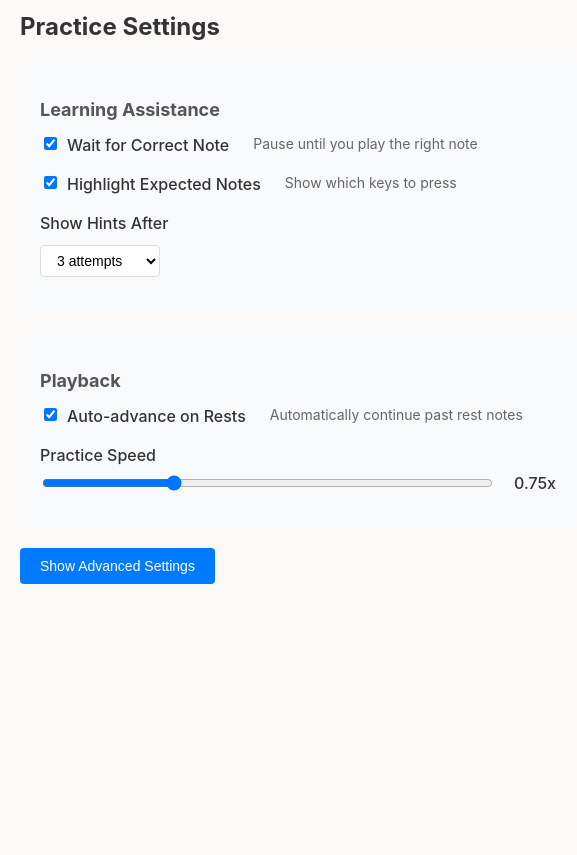
it: Practice Settings UI › Data Export › should show export format options
Step 1. Click the button "Show Advanced Settings" → x=117, y=566, box [20,548,215,584]
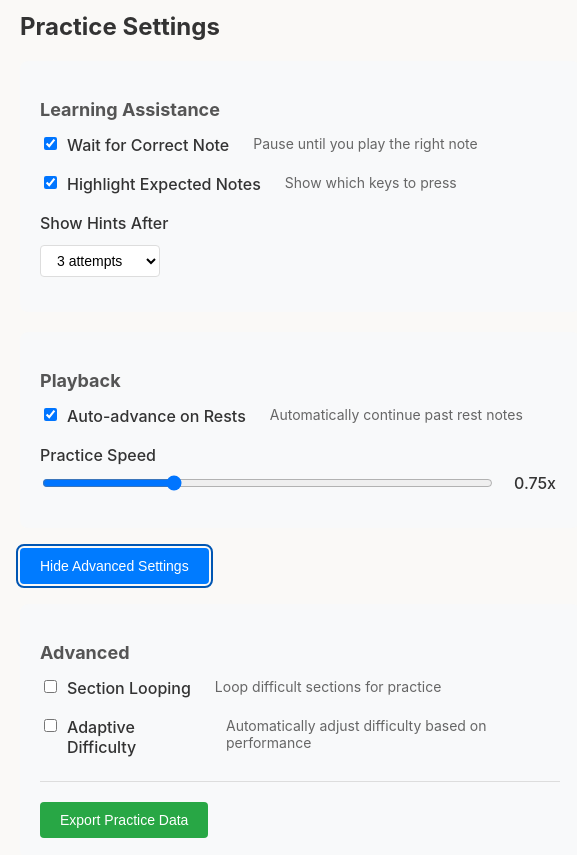
Step 2. Click the button "Export Practice Data" → x=124, y=820, box [40,802,208,838]
(page scrolled)
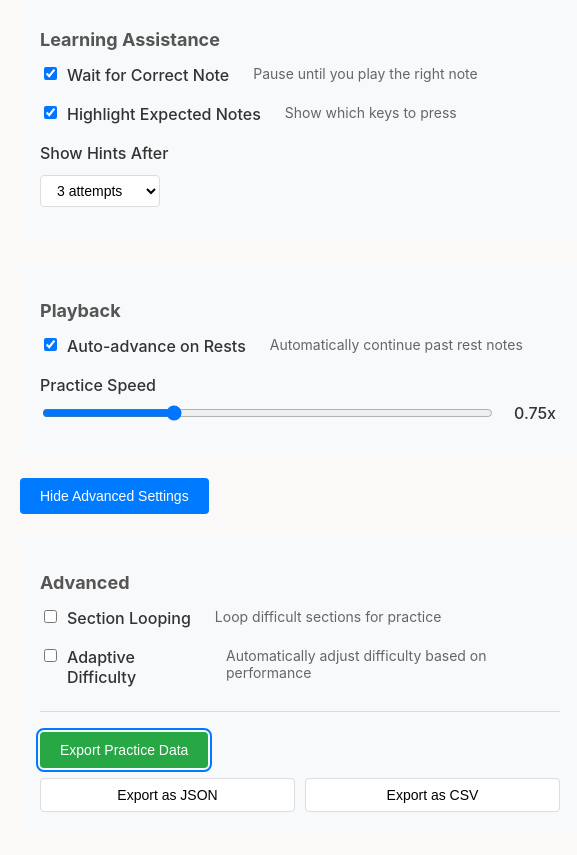
Expected: the button "Export as JSON" is shown, [40,778,295,812]
Expected: the button "Export as CSV" is shown, [305,778,560,812]
